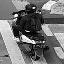mobil: (3, 5, 58, 58)
